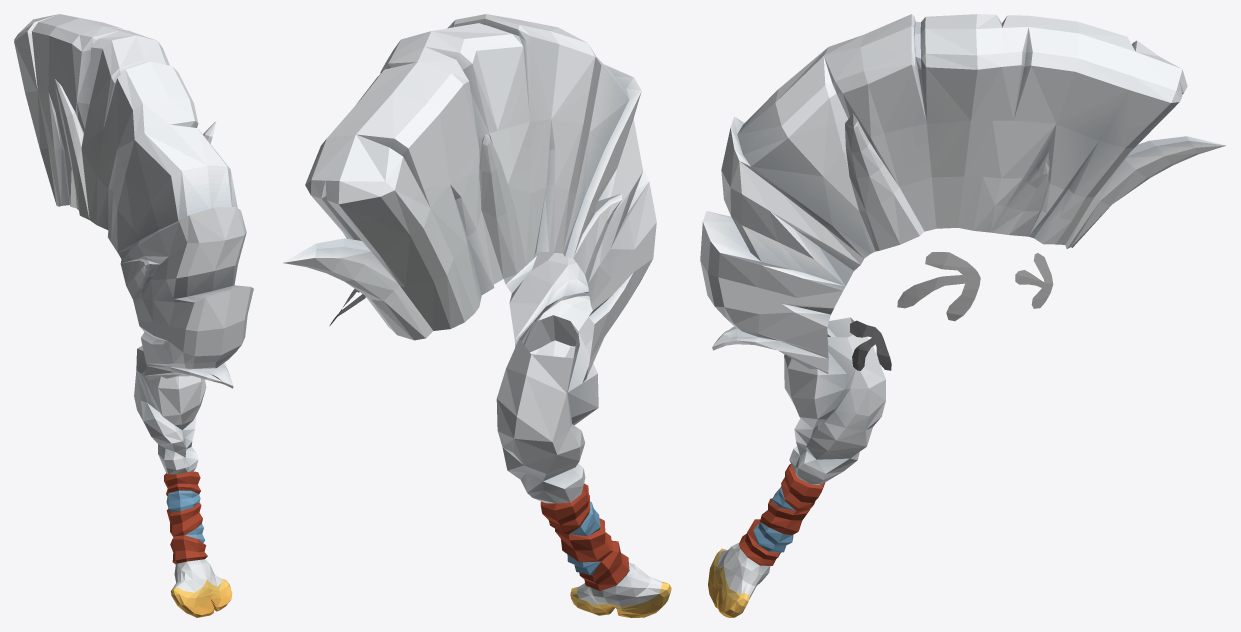
Rendered from CharSkyKid_Hair_AP28MantaWhisperer.glb.
3 views of the same model, side by side, from view 1: azimuth 30°, elevation 25°; view 2: azimuth 150°, elevation 25°; view 3: azimuth 270°, elevation 25° (orthographic). The views are drawn at different scales.
Visible parts, largest first — view 1: CharSkyKid_Hair_AP28MantaWhisperer; view 2: CharSkyKid_Hair_AP28MantaWhisperer; view 3: CharSkyKid_Hair_AP28MantaWhisperer.
Part boxes in pixels (x1,y1,x2,y2): CharSkyKid_Hair_AP28MantaWhisperer: (14,14,253,617); CharSkyKid_Hair_AP28MantaWhisperer: (283,14,671,617); CharSkyKid_Hair_AP28MantaWhisperer: (700,14,1225,617).
Size of the model in its own units: 1.47 by 5.34 by 4.25.
Materials: 1 (1 with a texture image).
